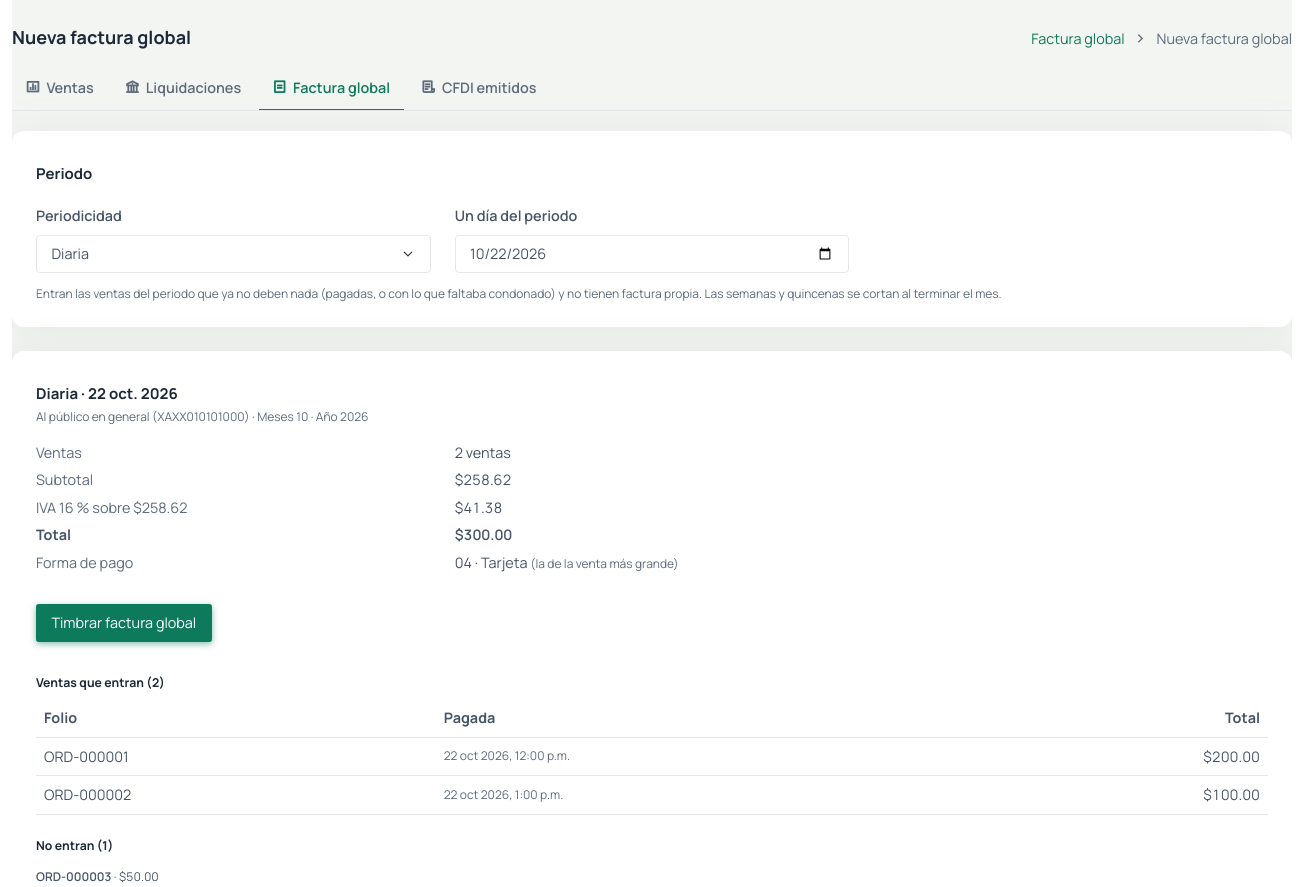
Test: NewGlobalInvoice › does not stamp a preview it could not read again
Expected: the text "ORD-000002" is shown, x1=36 y1=776 x2=436 y2=814
Click the button "Timbrar factura global": (124, 622) x1=36 y1=604 x2=212 y2=642
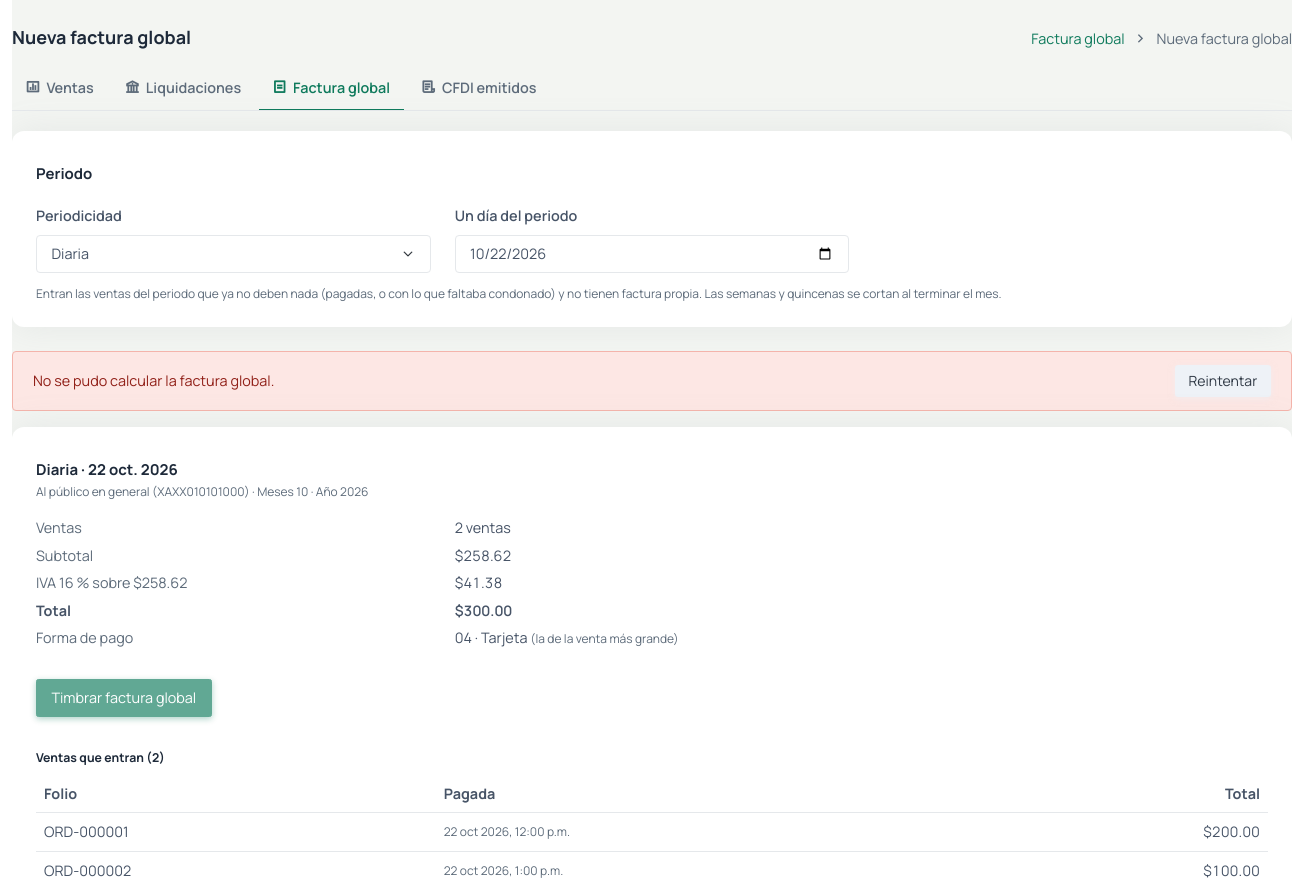
Expected: the text "No se pudo calcular la factura global." is shown, x1=33 y1=370 x2=274 y2=392
Expected: the button "Reintentar" is shown, x1=1175 y1=365 x2=1271 y2=397
Expected: the button "Timbrar factura global" is disabled, x1=36 y1=679 x2=212 y2=717
